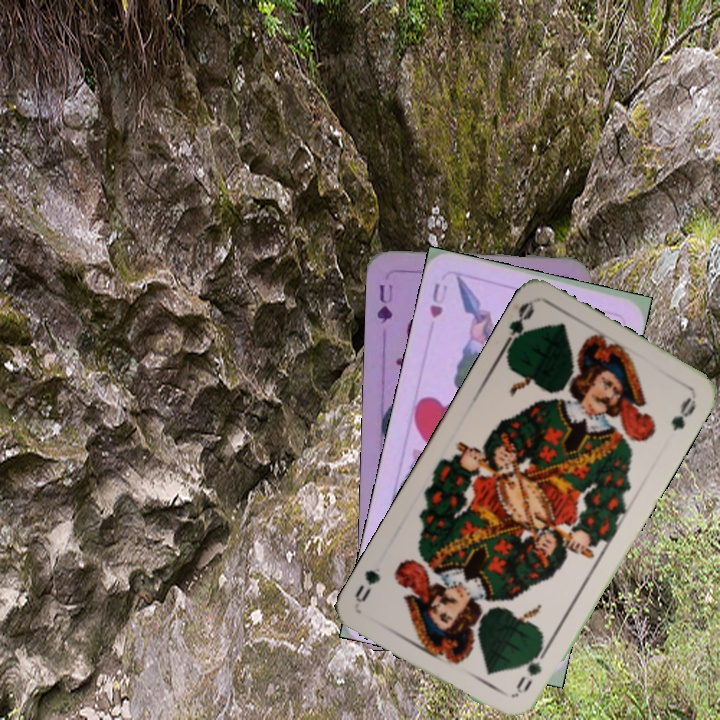GO: (498, 298, 537, 355), (511, 642, 551, 697)
GU: (373, 280, 395, 327)
HU: (425, 278, 450, 321)
